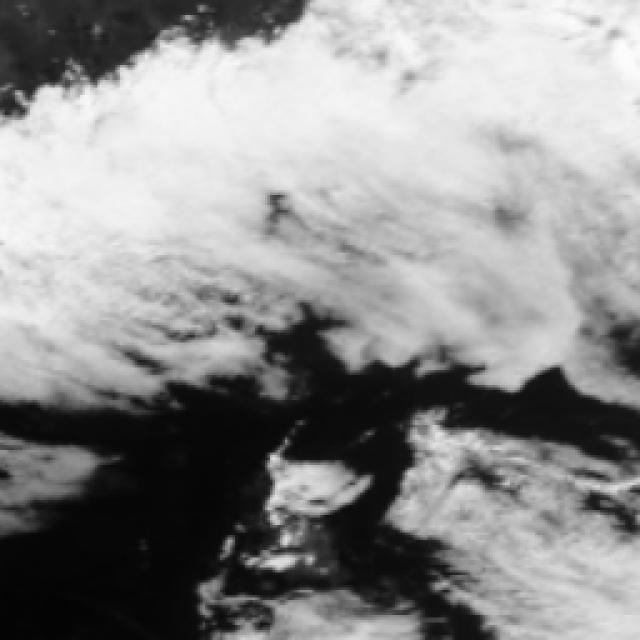CB: (84, 94, 476, 185)
